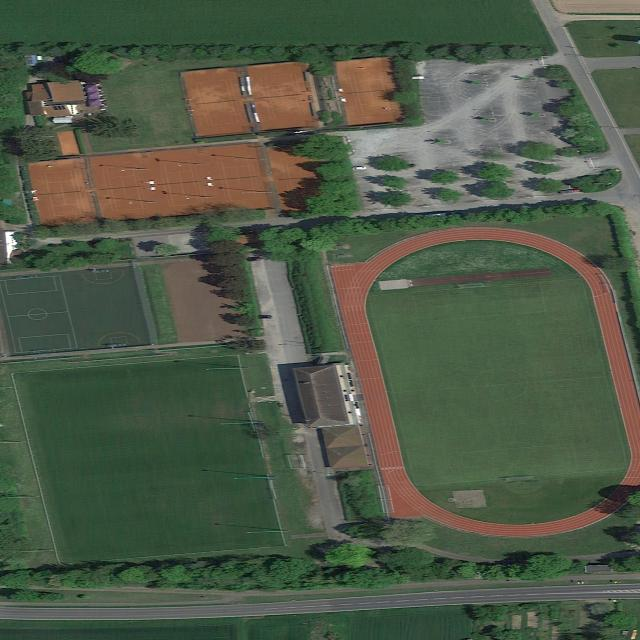small-vehicle: (246, 257, 264, 262), (255, 315, 273, 319), (351, 167, 368, 171)
